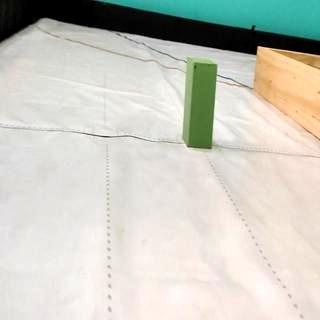greenbox: (183, 56, 219, 148)
